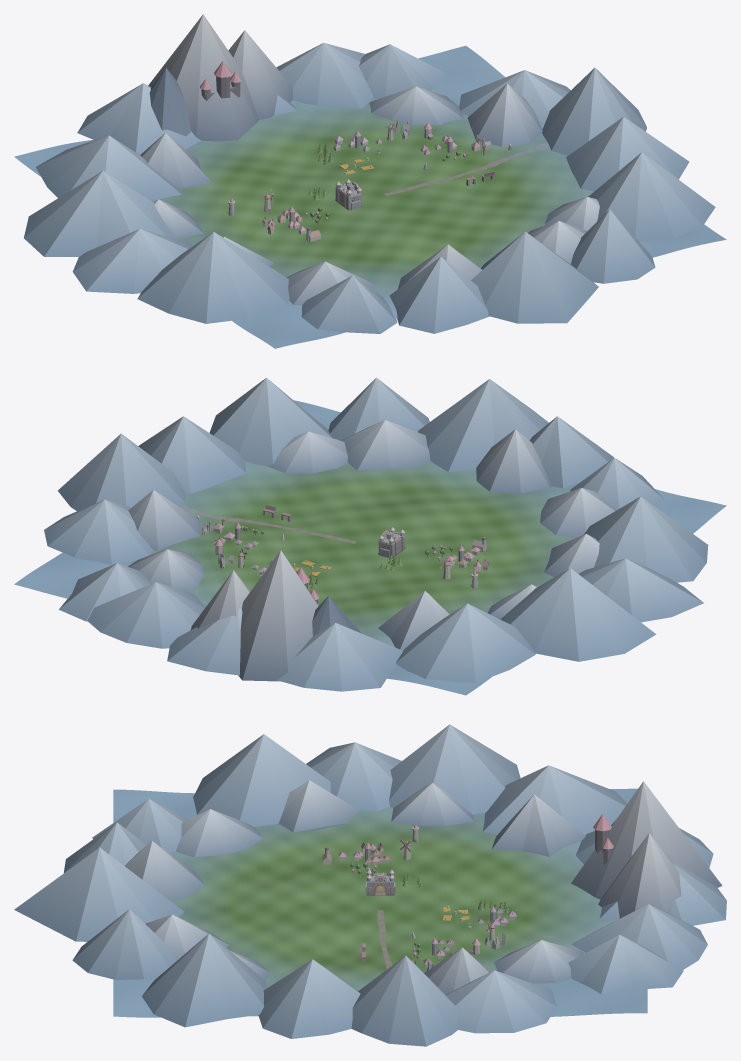
File: region.glb
3 views of the same model, one above another, from view 1: azimuth 30°, elevation 25°; view 2: azimuth 150°, elevation 25°; view 3: azimuth 270°, elevation 25° (orthographic). The views are drawn at different scales.
Visible parts, largest first — view 1: far_range_outer, near_skirt, far_range_inner, far_mountain_hero, far_castle, near_road, near_bakery; view 2: far_range_outer, near_skirt, far_range_inner, far_mountain_hero, near_road, near_bakery; view 3: far_range_outer, near_skirt, far_range_inner, far_mountain_hero, near_bakery, far_castle.
Part boxes in pixels (left/top/right/bottom): far_range_outer: left=24, top=42, right=715, bottom=333; near_skirt: left=14, top=45, right=726, bottom=348; far_range_inner: left=140, top=83, right=599, bottom=305; far_mountain_hero: left=148, top=14, right=292, bottom=141; far_castle: left=200, top=61, right=241, bottom=100; near_road: left=384, top=142, right=549, bottom=195; near_bakery: left=335, top=179, right=362, bottom=210; far_range_outer: left=44, top=377, right=708, bottom=691; near_skirt: left=14, top=400, right=726, bottom=695; far_range_inner: left=128, top=420, right=616, bottom=650; far_mountain_hero: left=191, top=550, right=361, bottom=681; near_road: left=177, top=504, right=356, bottom=543; near_bakery: left=378, top=527, right=405, bottom=557; far_range_outer: left=14, top=724, right=726, bottom=1046; near_skirt: left=113, top=788, right=647, bottom=1017; far_range_inner: left=125, top=780, right=585, bottom=994; far_mountain_hero: left=571, top=781, right=722, bottom=918; near_bakery: left=365, top=870, right=395, bottom=895; far_castle: left=593, top=814, right=613, bottom=864.
Bounding box in the file's own units: 849 × 140 × 854.
